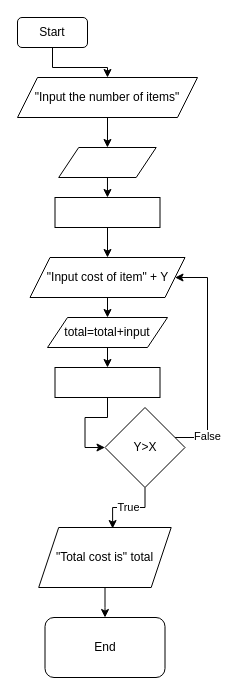
The diagram is 238 pixels wide and 695 high, and some of its shapes have lost their labels. Here are the shapes that lost their labels. From the top down, the centre of each, then its label:
At pixel 107 162: "Input=X".
At pixel 107 212: "Y=1 total=0".
At pixel 107 382: "Y=Y+1".
